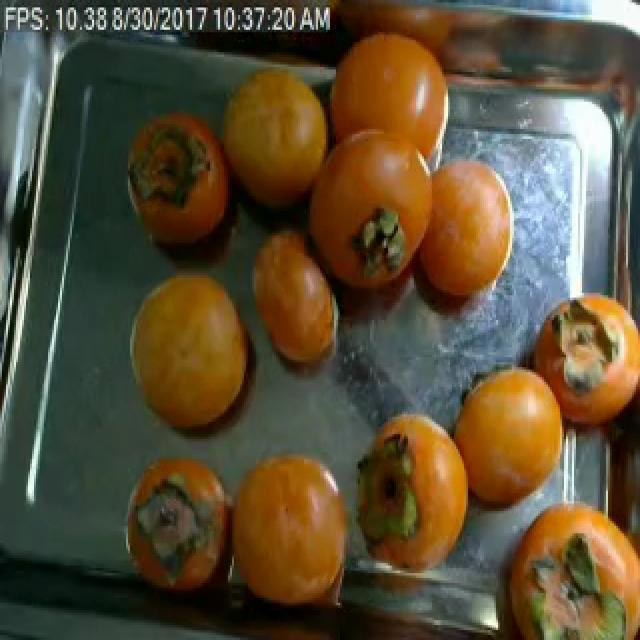Fruit: (382, 134, 536, 345), (344, 394, 498, 598), (114, 258, 268, 449), (202, 44, 348, 230), (220, 432, 352, 635), (436, 342, 564, 538), (236, 208, 358, 394), (116, 97, 240, 265)
